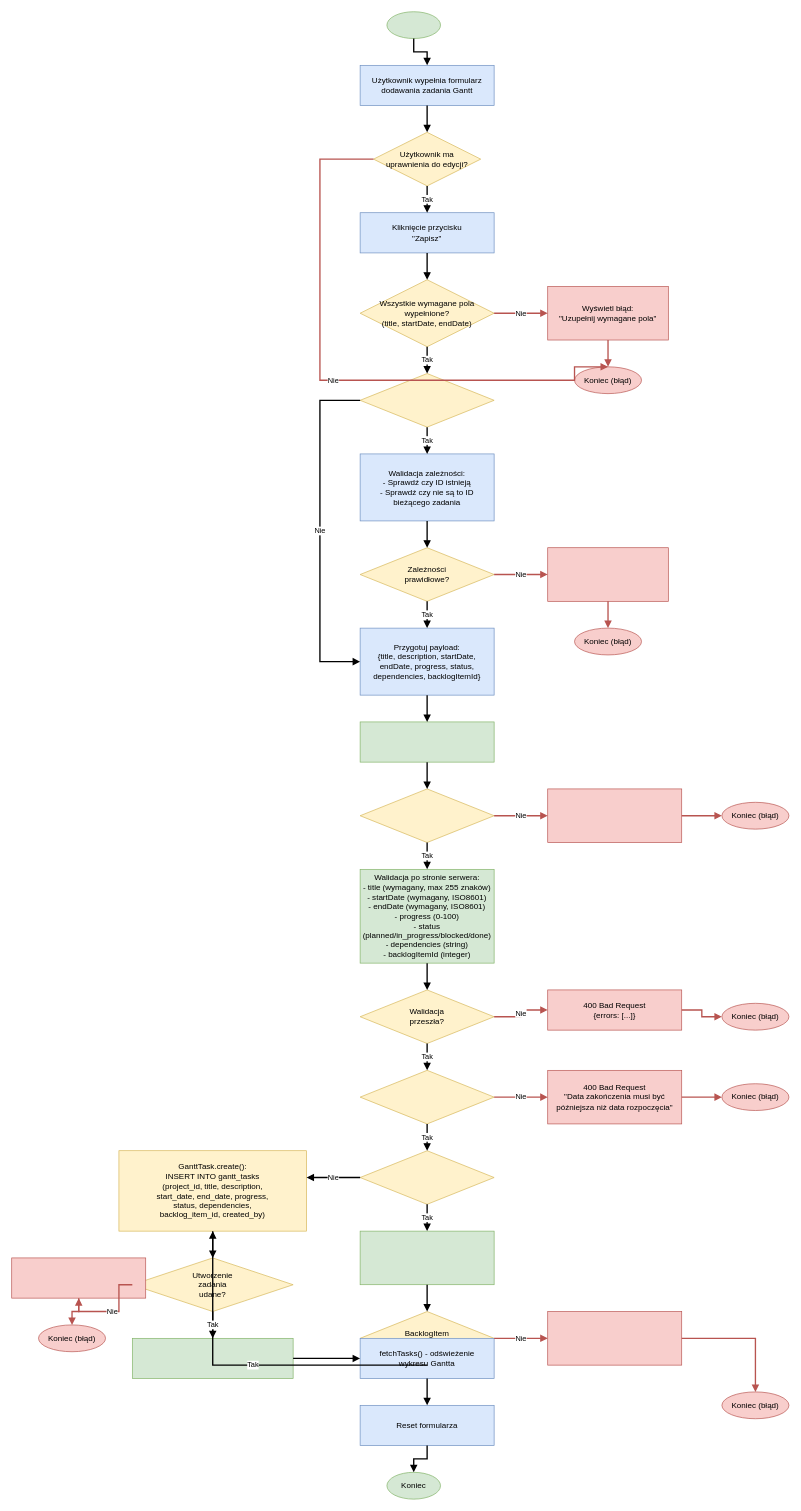
The diagram is 801 pixels wide and 1511 high, and some of its shapes have lost their labels. The centre of each missing label's shape, as x and y in pixels:
201 Created {message, task}: [212,1358]
404 Not Found "Element backlogu nie został znaleziony": [614,1338]
404 Not Found "Projekt nie został znaleziony lub dostęp zabroniony": [614,815]
500 Internal Server Error "Błąd serwera": [78,1277]
backlogItemId podane?: [426,1177]
POST /api/projects/:id/gantt/tasks: [426,741]
Sprawdź czy BacklogItem istnieje i należy do projektu: [426,1257]
Start: [413,25]
startDate < endDate?: [426,1097]
Użytkownik ma dostęp do projektu?: [426,815]
Wyświetl błąd: "Nieprawidłowe ID zadań w zależnościach": [607,574]
Zależności podane?: [426,400]
